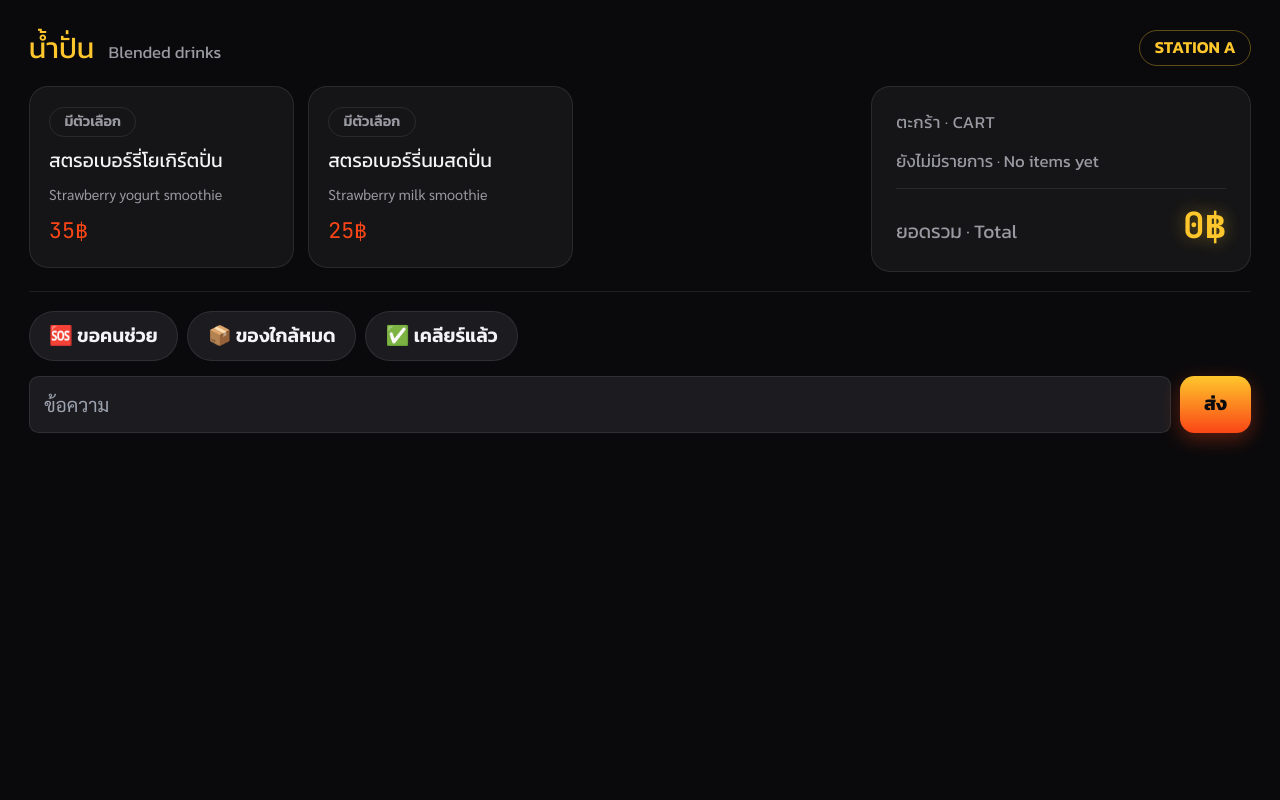
shows an error alert if saving the order is rejected
Click the button "สตรอเบอร์รี่โยเกิร์ตปั่น": (161, 177) [29,86,294,268]
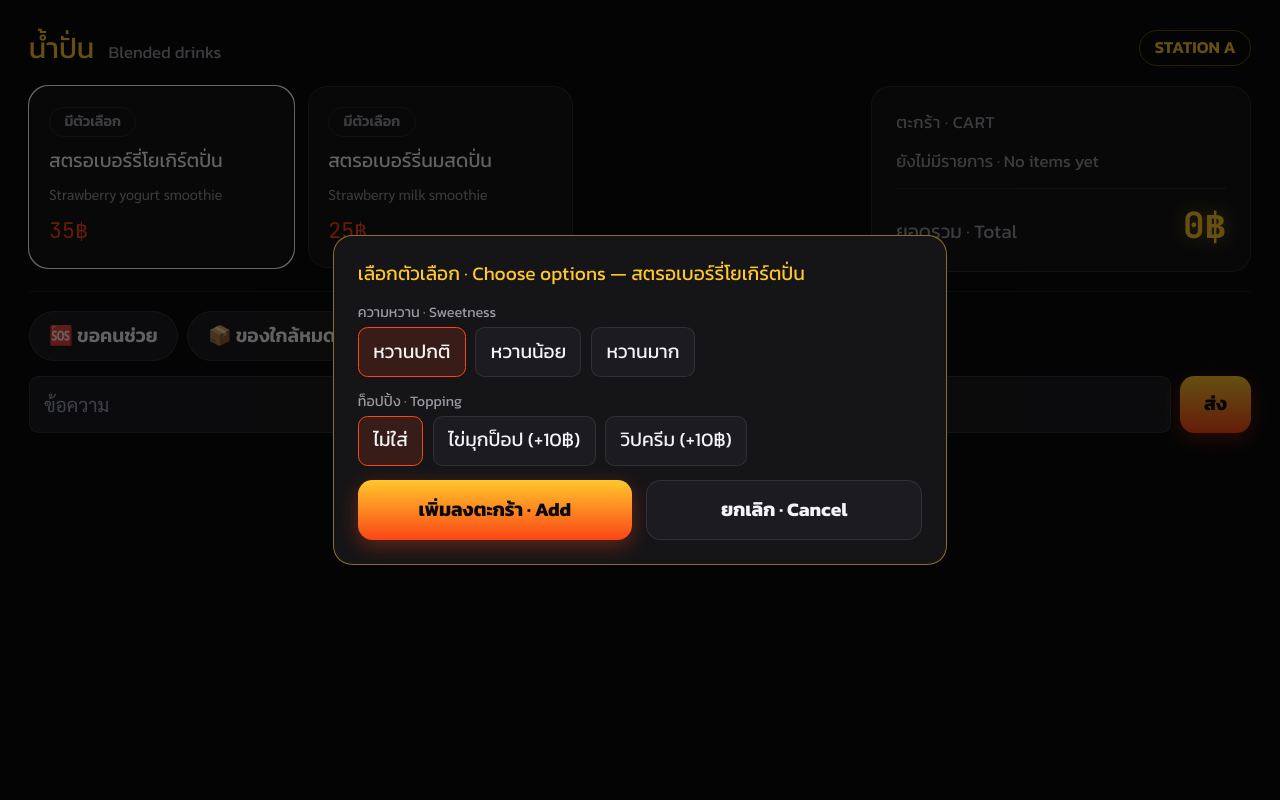
Click the button "เพิ่มลงตะกร้า · Add": (495, 510) [358,480,632,540]
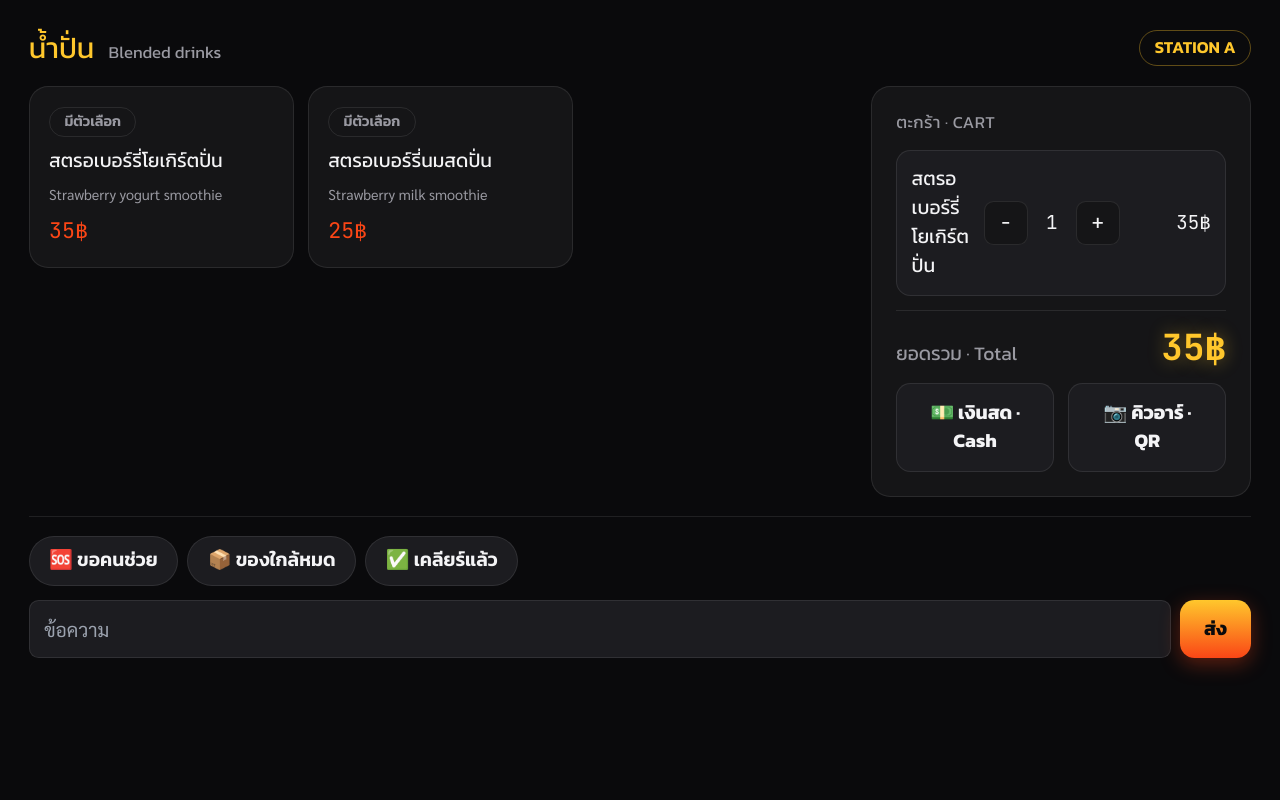
Click the button "💵 เงินสด · Cash": (975, 427) [896,383,1054,472]
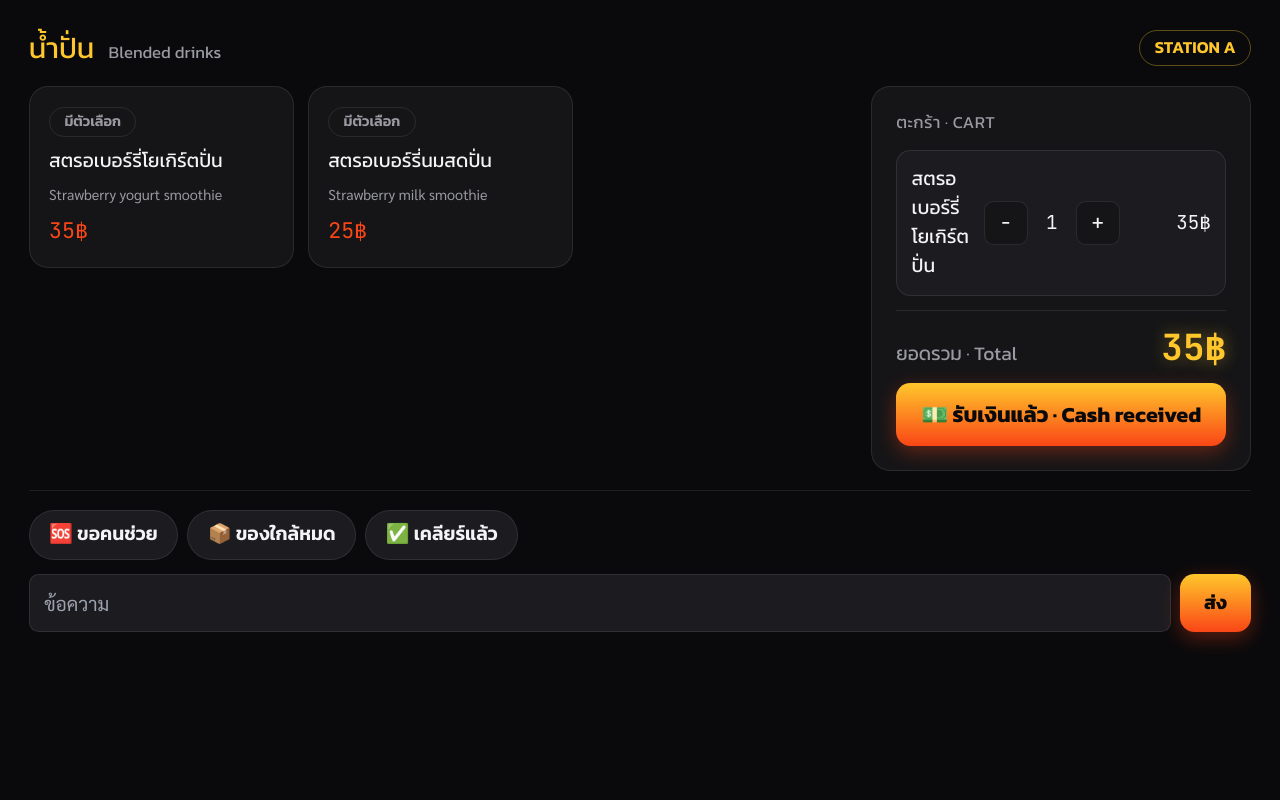
Click the button "💵 รับเงินแล้ว · Cash received": (1061, 414) [896,383,1226,446]
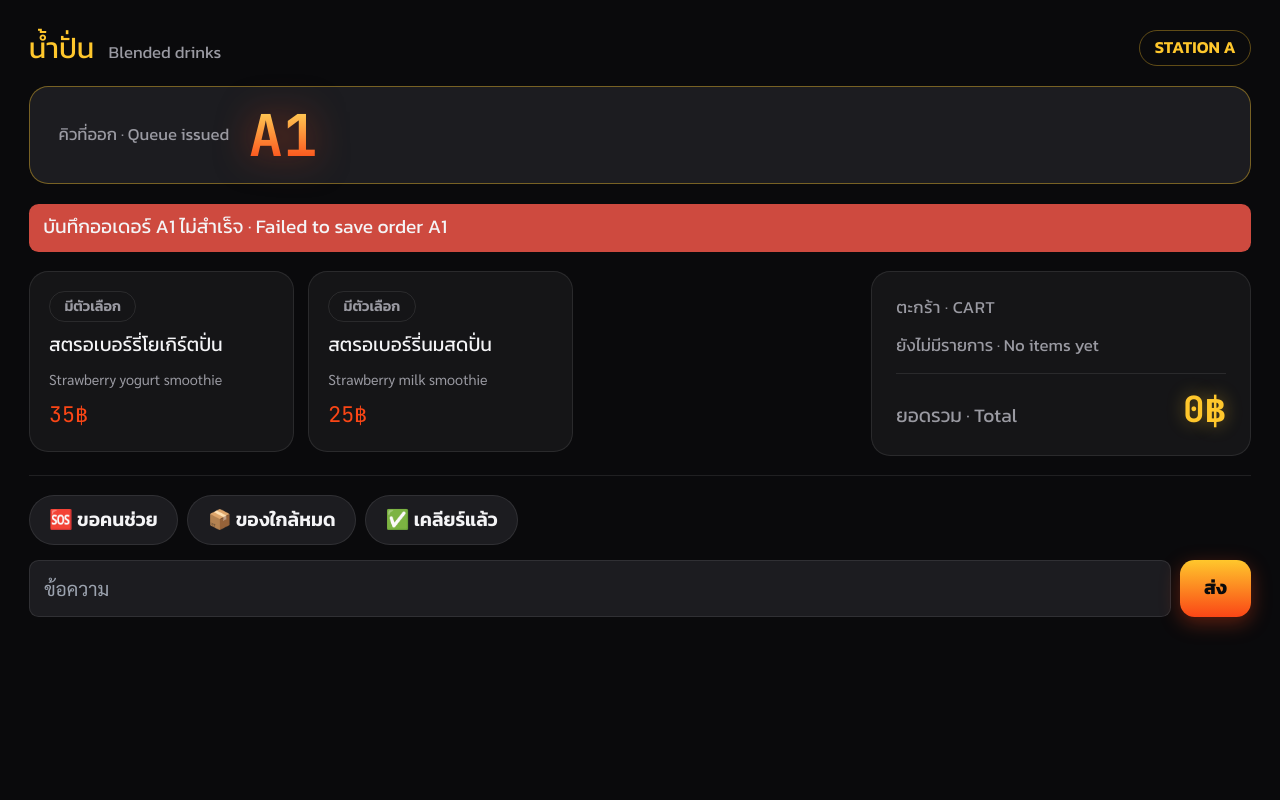
Expected: the message shows "A1", [156,212,175,241]
